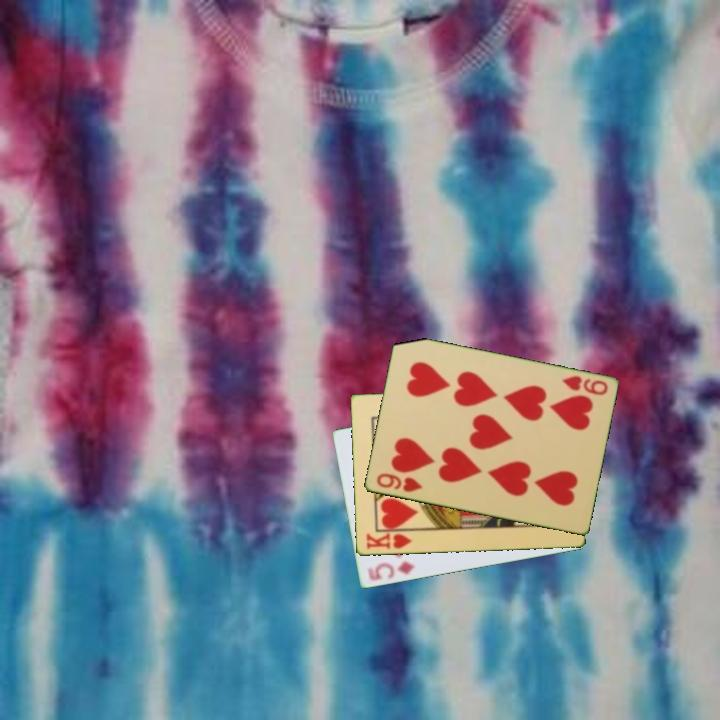5d: (363, 558, 418, 584)
9h: (559, 372, 611, 398), (373, 470, 425, 495)
Kh: (363, 527, 418, 552)
